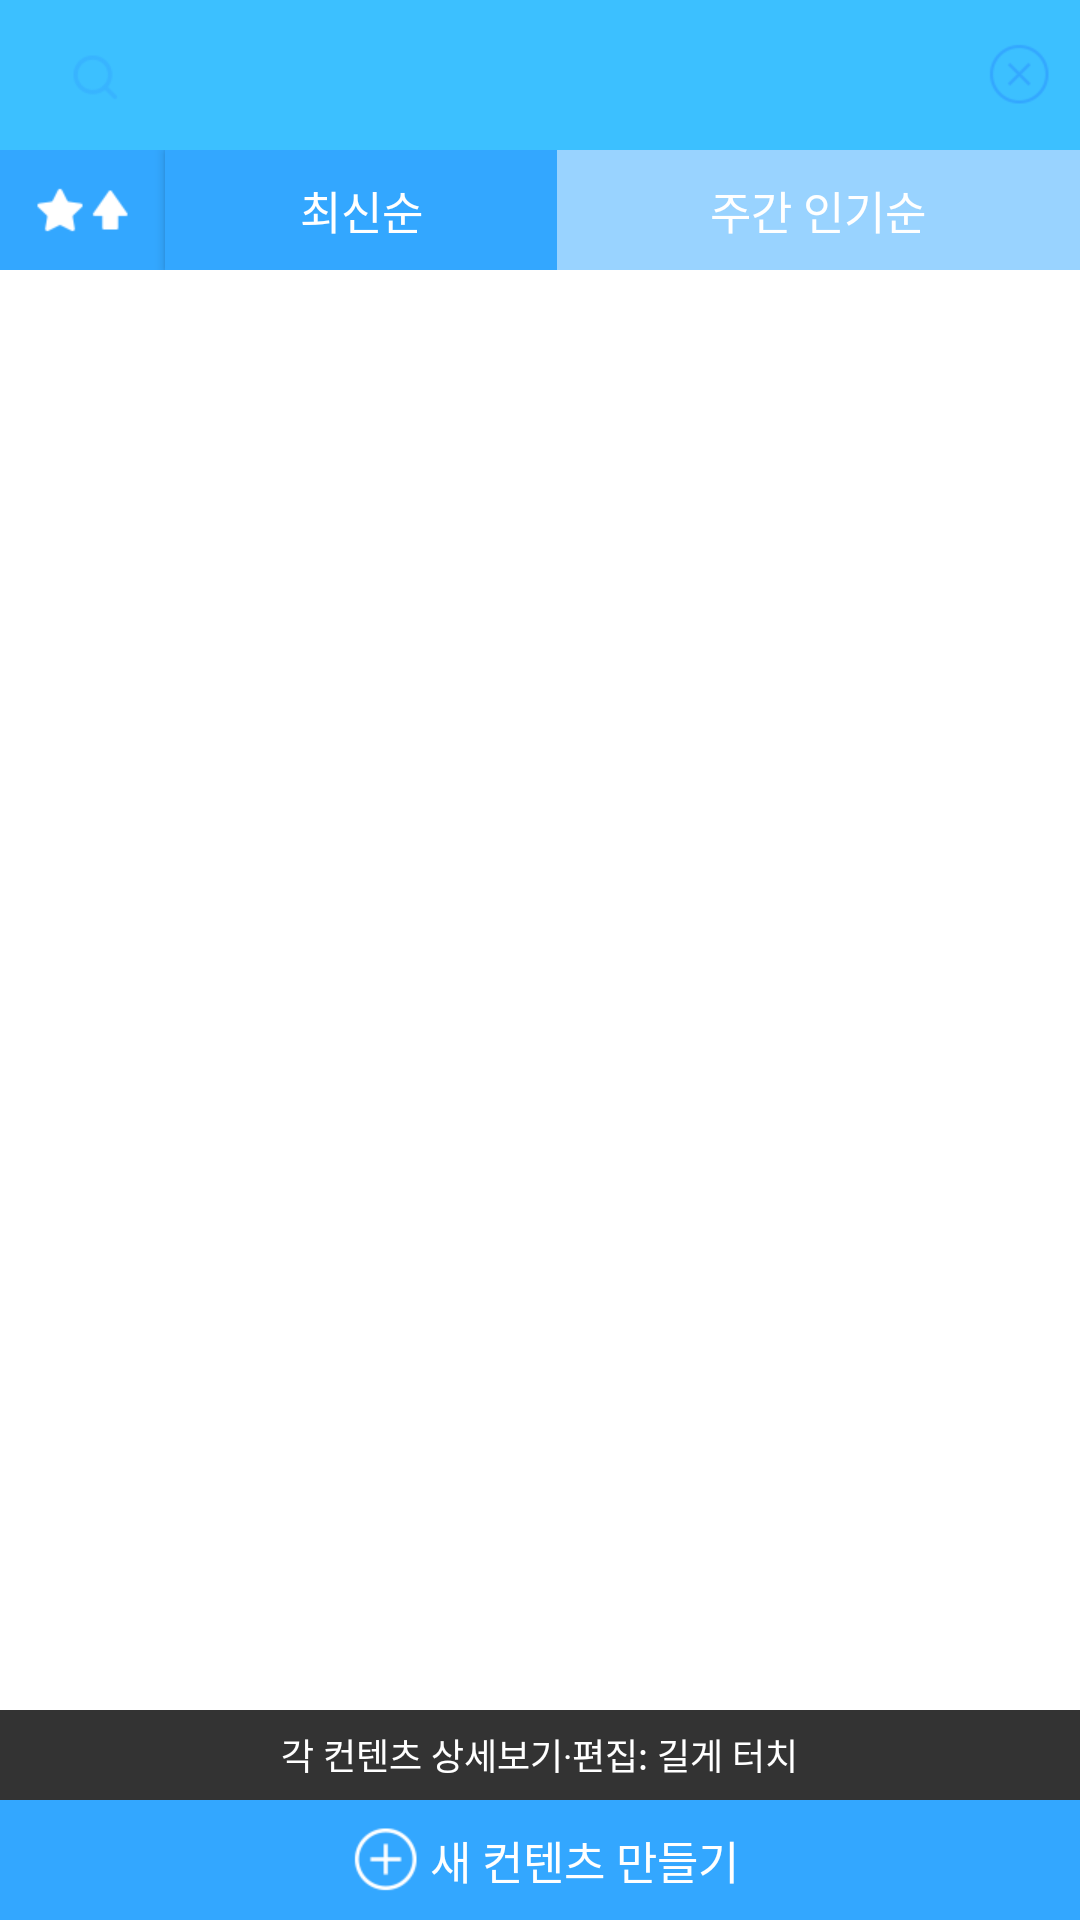

Named icons in this screenshot (1080px×1920px) and their centers, (x,y):
content favorite up: (82,210)
content search clear: (1019,74)
